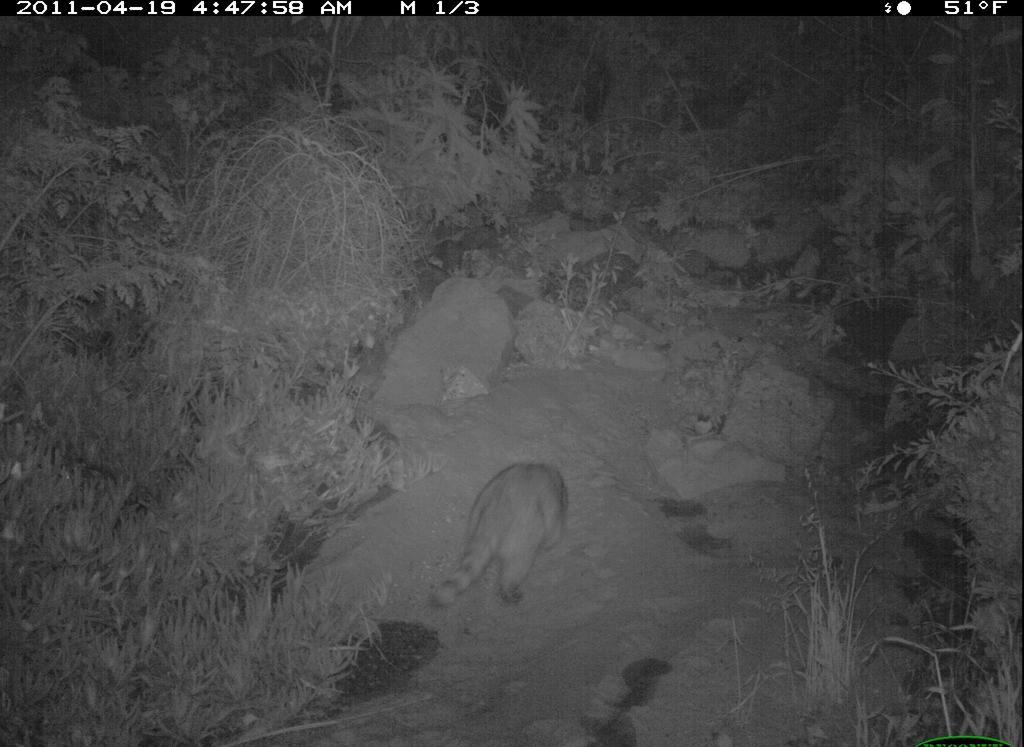raccoon: (422, 456, 580, 620)
